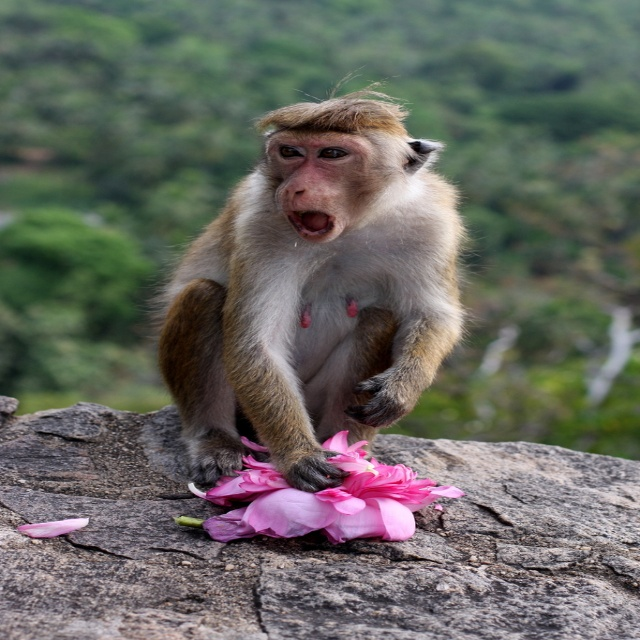Monkey: (134, 64, 495, 492)
